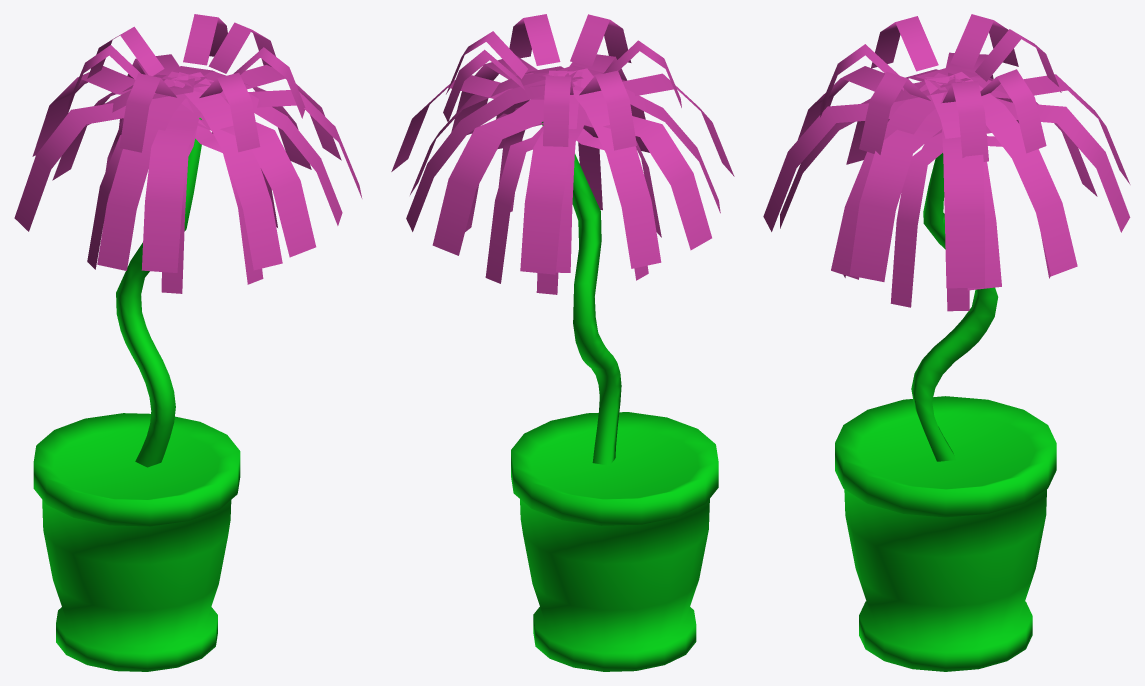
The model's file is greenie.fbx.
3 views of the same model, side by side, from view 1: azimuth 30°, elevation 25°; view 2: azimuth 150°, elevation 25°; view 3: azimuth 270°, elevation 25° (orthographic). The views are drawn at different scales.
Visible parts, largest first — view 1: Items.012; view 2: Items.012; view 3: Items.012.
Boxes of the visible parts, bbox=[...] form: Items.012: bbox=[14, 14, 362, 671]; Items.012: bbox=[391, 14, 734, 671]; Items.012: bbox=[763, 14, 1130, 671].
Size of the model in its own units: 105 by 188 by 102.
